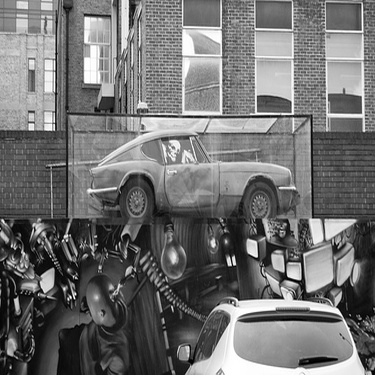car: (78, 125, 304, 219), (170, 288, 371, 373)
